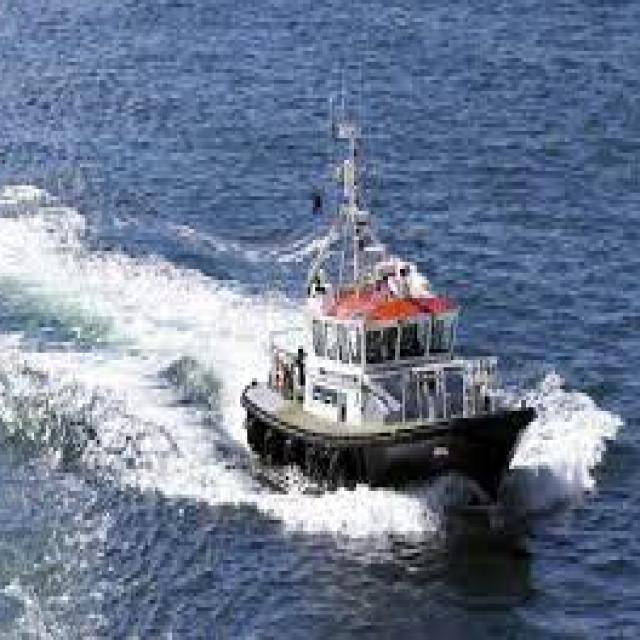houseboat: (241, 74, 540, 532)
